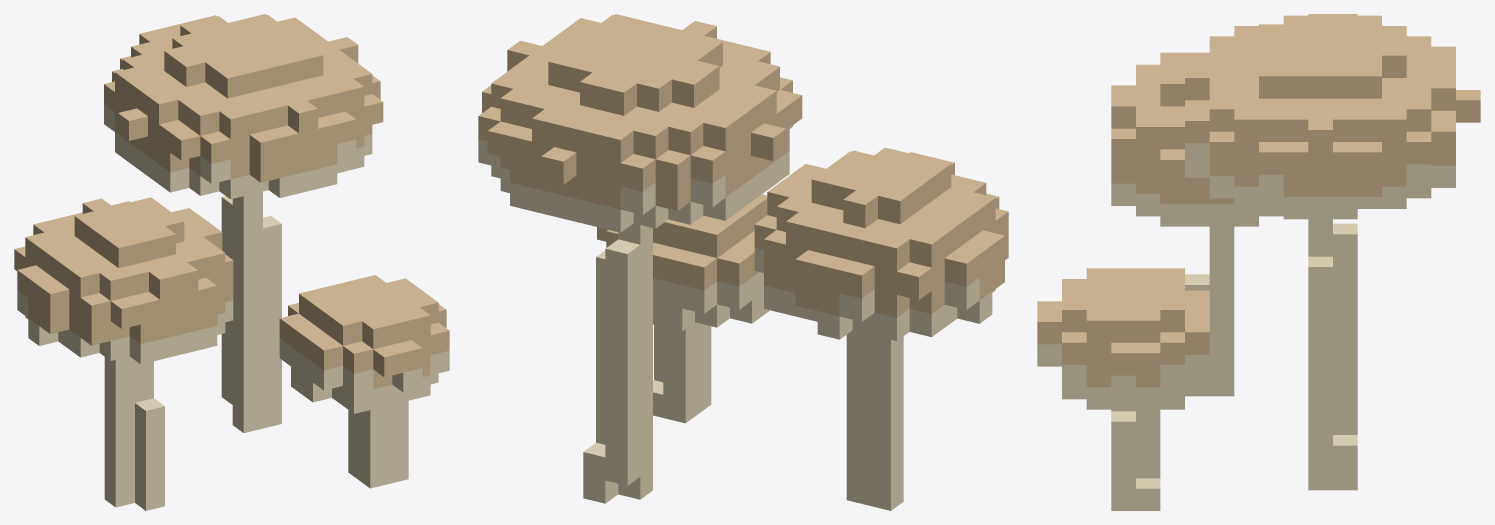
Rendered from swamp_mushrooms.glb.
3 renders of one model, left to right at view 1: azimuth 30°, elevation 25°; view 2: azimuth 150°, elevation 25°; view 3: azimuth 270°, elevation 25°, orthographic. The views are drawn at different scales.
Size of the model in its own units: 0.7917 by 0.7917 by 0.75.
